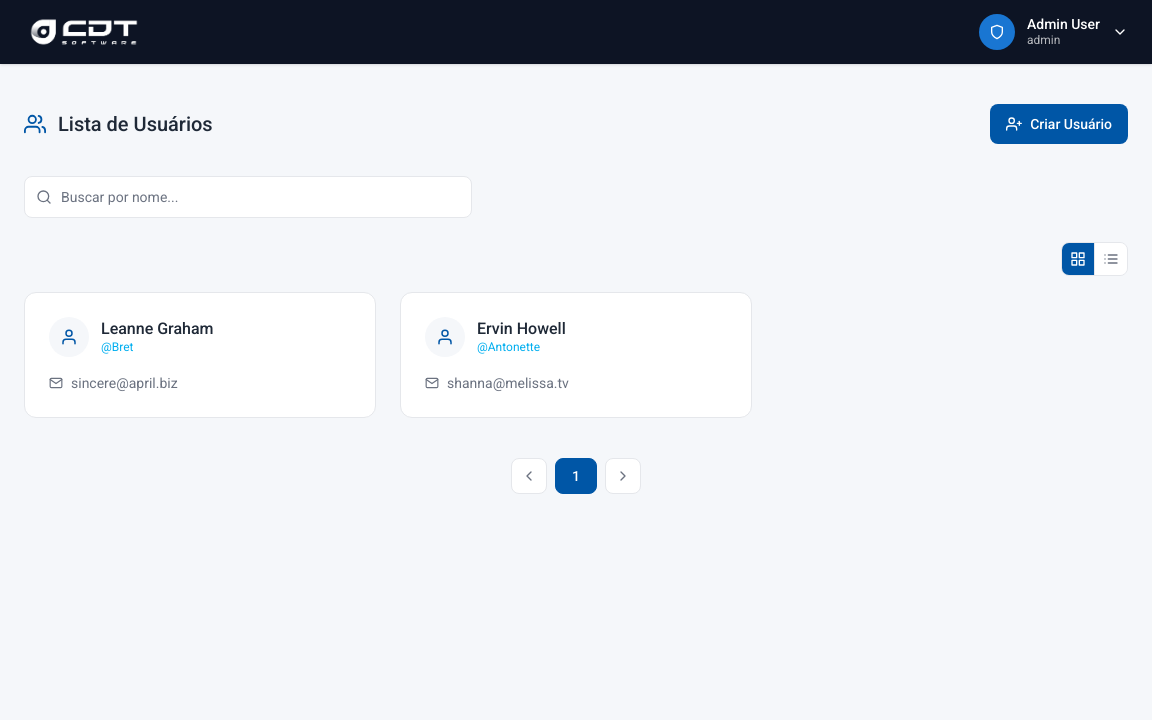
Test: App — integration › closes the modal when the close button is clicked
Expected: the heading "Leanne Graham" is shown, left=101, top=319, right=214, bottom=339
Click the button "Leanne Graham @Bret Sincere@april.biz" at coordinates (69, 337), box left=24, top=292, right=376, bottom=418
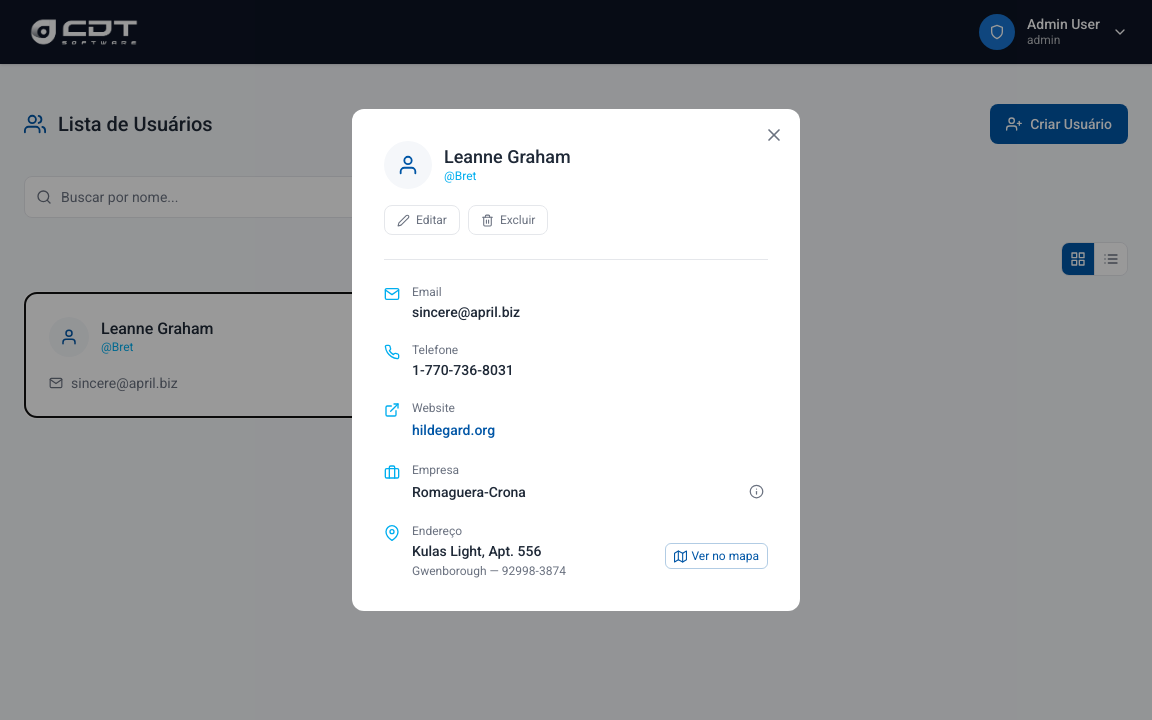
Result: the dialog is shown
Click the button named "fechar modal" at coordinates (774, 135), box left=764, top=125, right=784, bottom=145
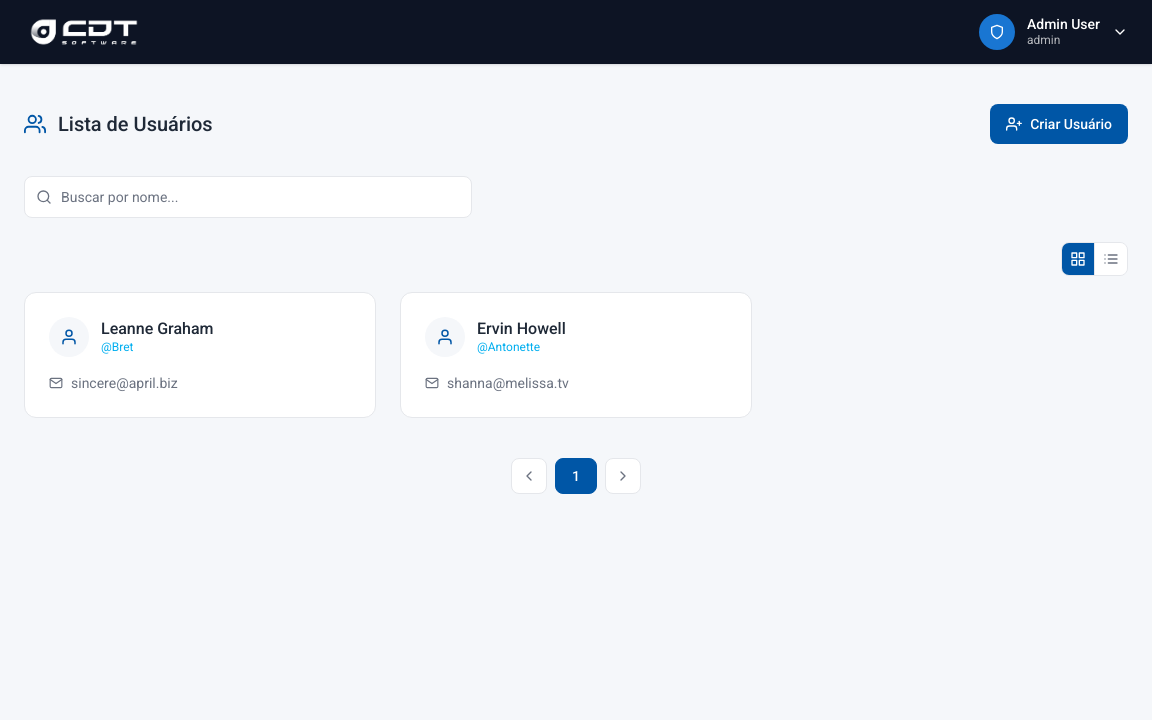
Result: the dialog is gone
